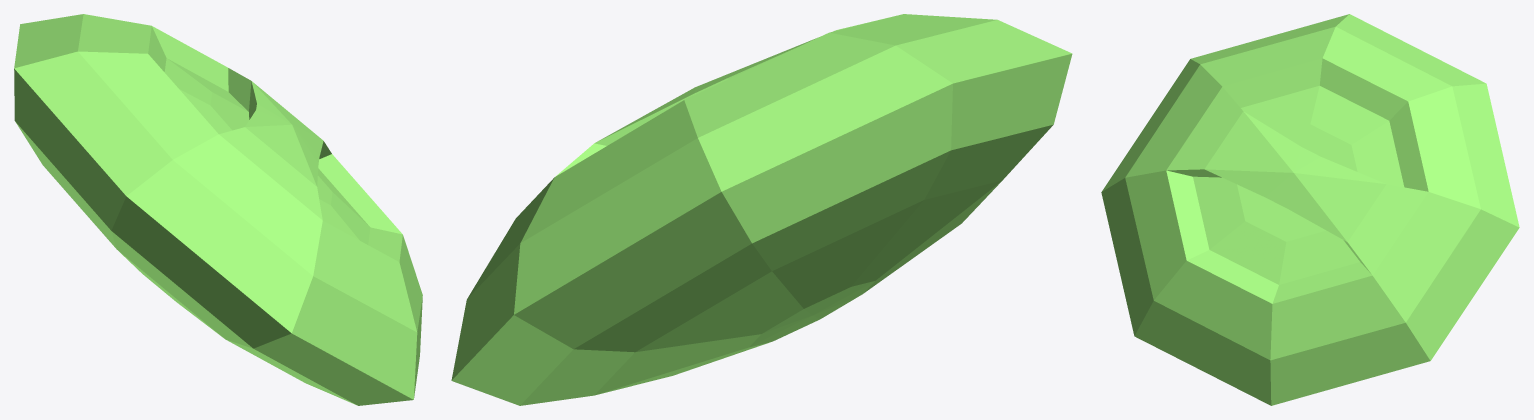
Rendered from S_lime.fbx.
3 renders of one model, left to right at view 1: azimuth 30°, elevation 25°; view 2: azimuth 150°, elevation 25°; view 3: azimuth 270°, elevation 25°, orthographic. The views are drawn at different scales.
Visible parts, largest first — view 1: S_lime; view 2: S_lime; view 3: S_lime.
Part boxes in pixels (box(x1,y1,x2,y2)): S_lime: box(14, 14, 422, 405); S_lime: box(451, 14, 1072, 405); S_lime: box(1101, 14, 1519, 405).
Size of the model in its own units: 10.31 by 9.73 by 13.6.
Materials: 1 (1 with a texture image).
